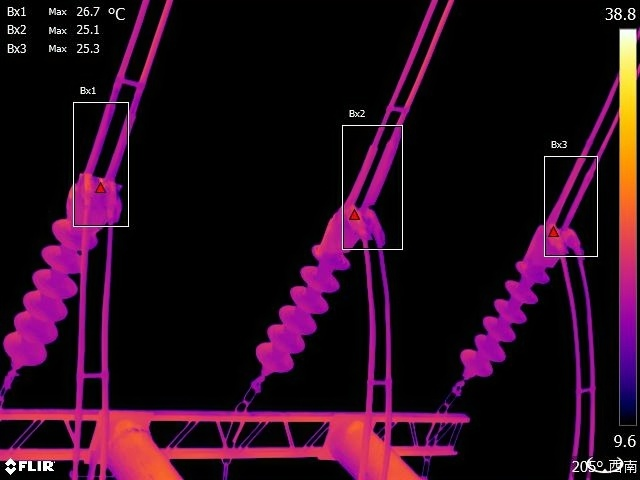clamp: (76, 162, 121, 208), (346, 199, 385, 245), (548, 219, 586, 255)
insulator: (1, 170, 119, 382), (448, 225, 570, 387), (243, 231, 355, 391)
